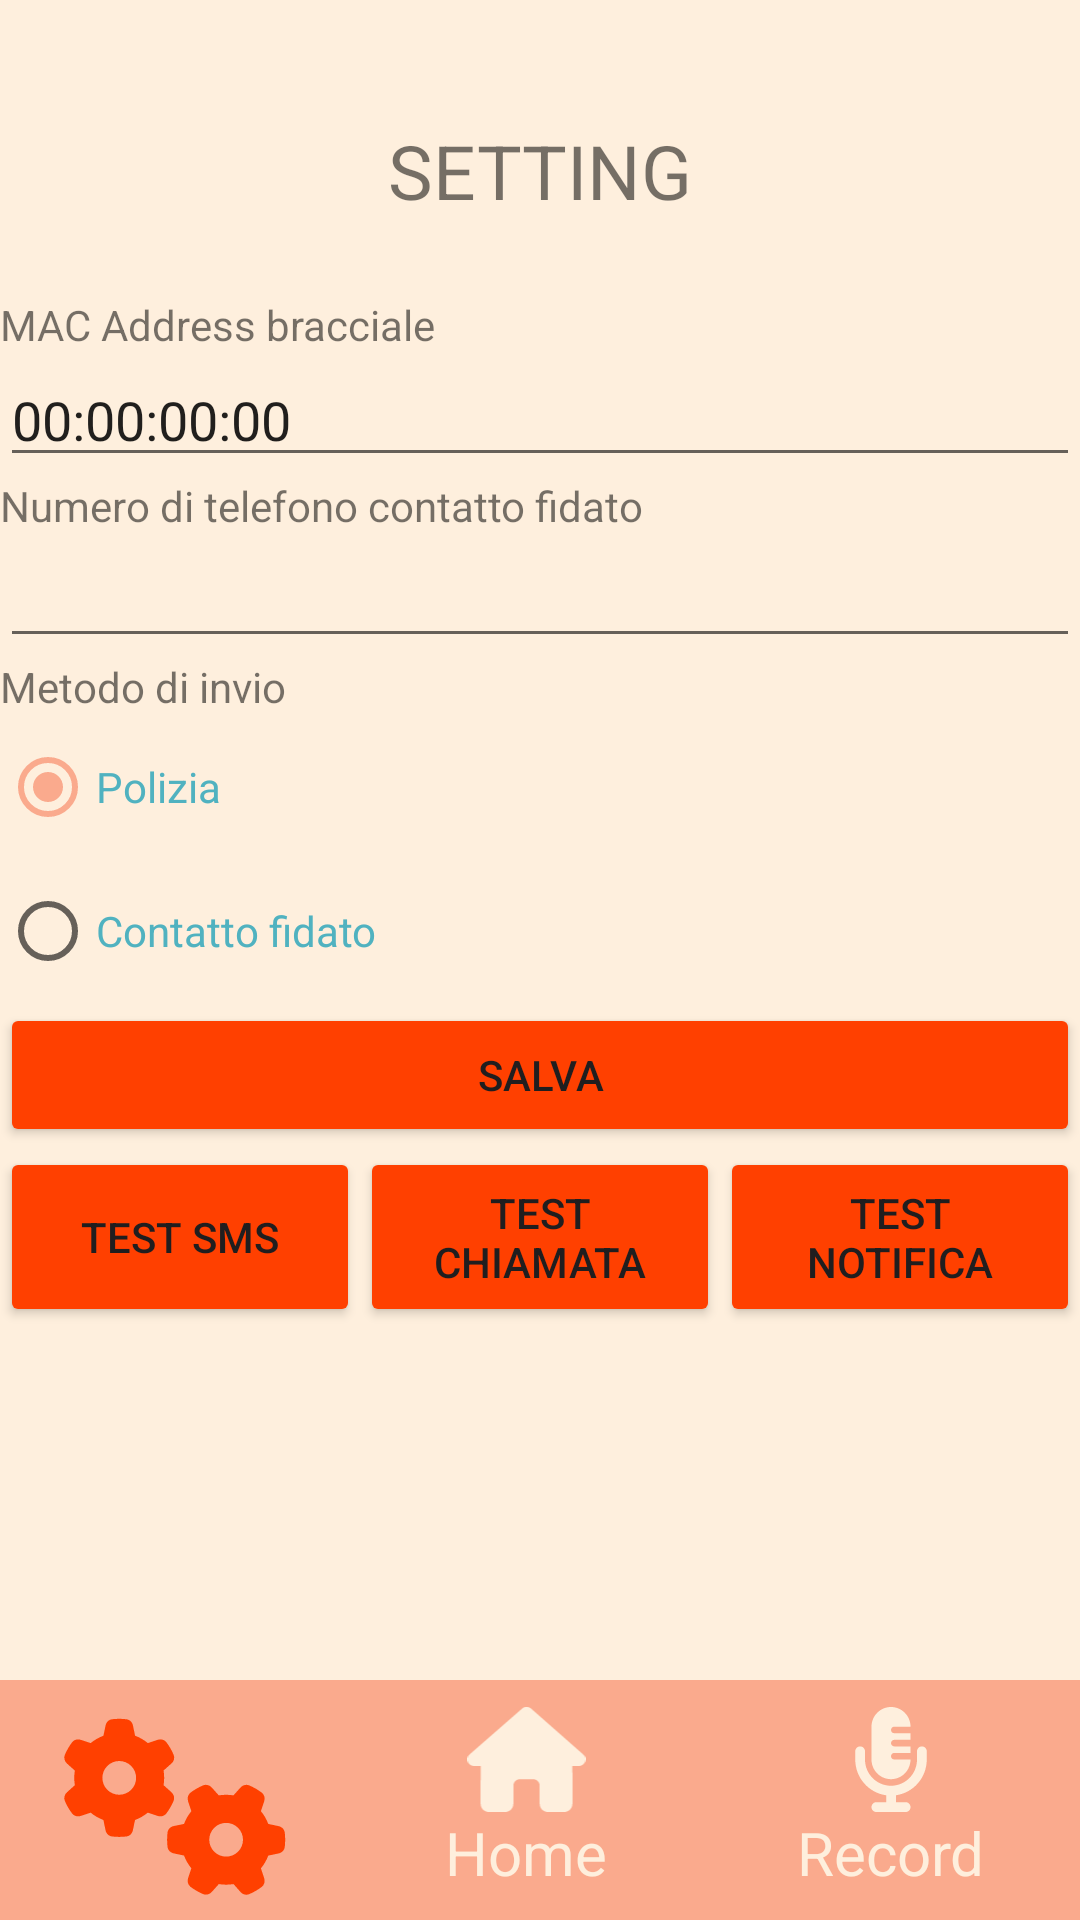

Screen size 1080x1920. Icon name, then its box in pixels as (x1, y1, x2, y2):
gears yes: (64, 1718, 286, 1895)
microphone no: (855, 1707, 927, 1812)
